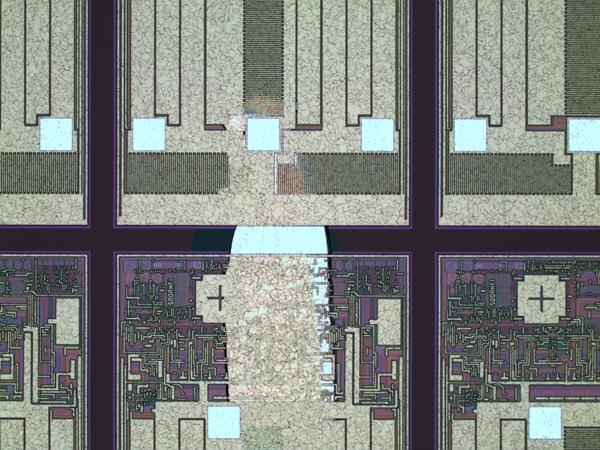BLOCK ETCH: (214, 95, 355, 450)
